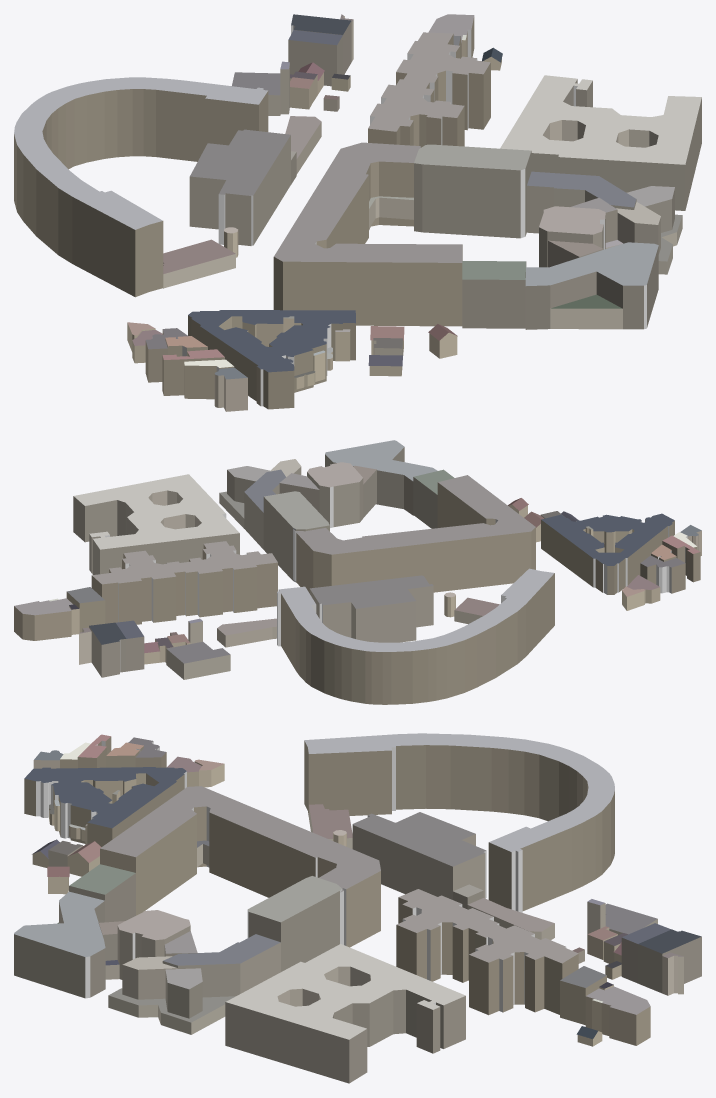
3 renders of one model, top to bottom at view 1: azimuth 30°, elevation 25°; view 2: azimuth 150°, elevation 25°; view 3: azimuth 270°, elevation 25°, orthographic. The views are drawn at different scales.
Parts seen in each view (by area): view 1: tuile; view 2: tuile; view 3: tuile.
Boxes of the visible parts, x1,y1,x2,y2 form: tuile: (14,14,701,411); tuile: (14,440,701,704); tuile: (14,733,701,1083).
Size of the model in its own units: 287 by 30.59 by 270.
